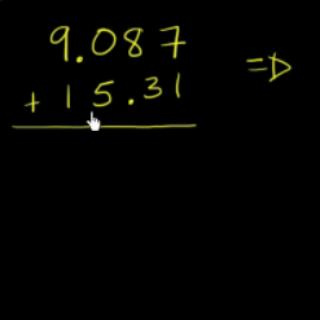.: (125, 95, 136, 108), (76, 54, 85, 66)
0: (89, 24, 116, 58)
1: (62, 82, 74, 113), (173, 72, 186, 99)
3: (142, 73, 165, 104)
5: (90, 75, 114, 110)
7: (157, 19, 188, 64)
8: (122, 23, 145, 61)
9: (45, 21, 73, 64)
